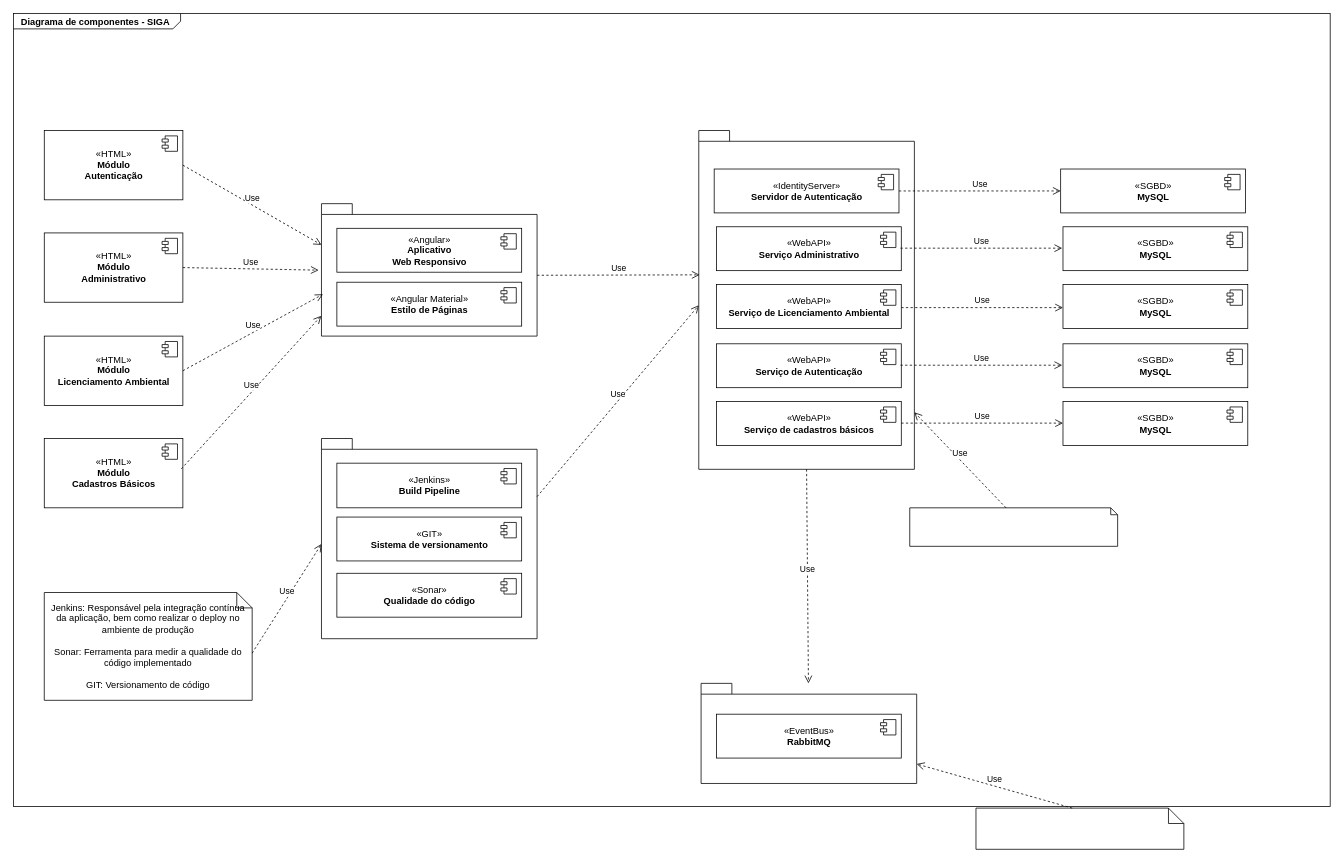
Image size: 1344x863. Some labels were removed from this diagram. Here are the shapes that lost their labels. From the top down, the centre of each, then its label:
point (1013, 526): Servidor de aplicação
point (1079, 828): Ferramenta rodando em máquina docker no servidor de aplicação
